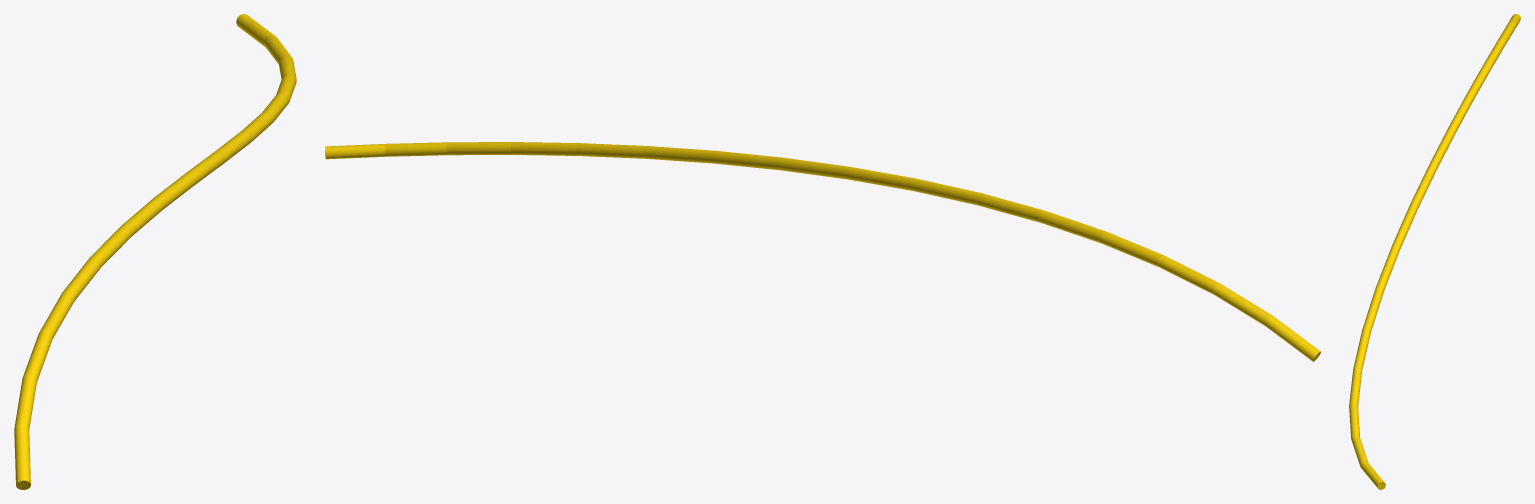
Rendered from Event_420107950_track_48.fbx.
3 views of the same model, side by side, from view 1: azimuth 90°, elevation 25°; view 2: azimuth 150°, elevation 25°; view 3: azimuth 270°, elevation 25° (orthographic). The views are drawn at different scales.
Parts seen in each view (by area): view 1: Model; view 2: Model; view 3: Model.
Boxes of the visible parts, x1,y1,x2,y2 form: Model: (14, 14, 296, 489); Model: (325, 142, 1320, 361); Model: (1349, 14, 1520, 489).
Size of the model in its own units: 3.89 by 0.6496 by 0.7522.
